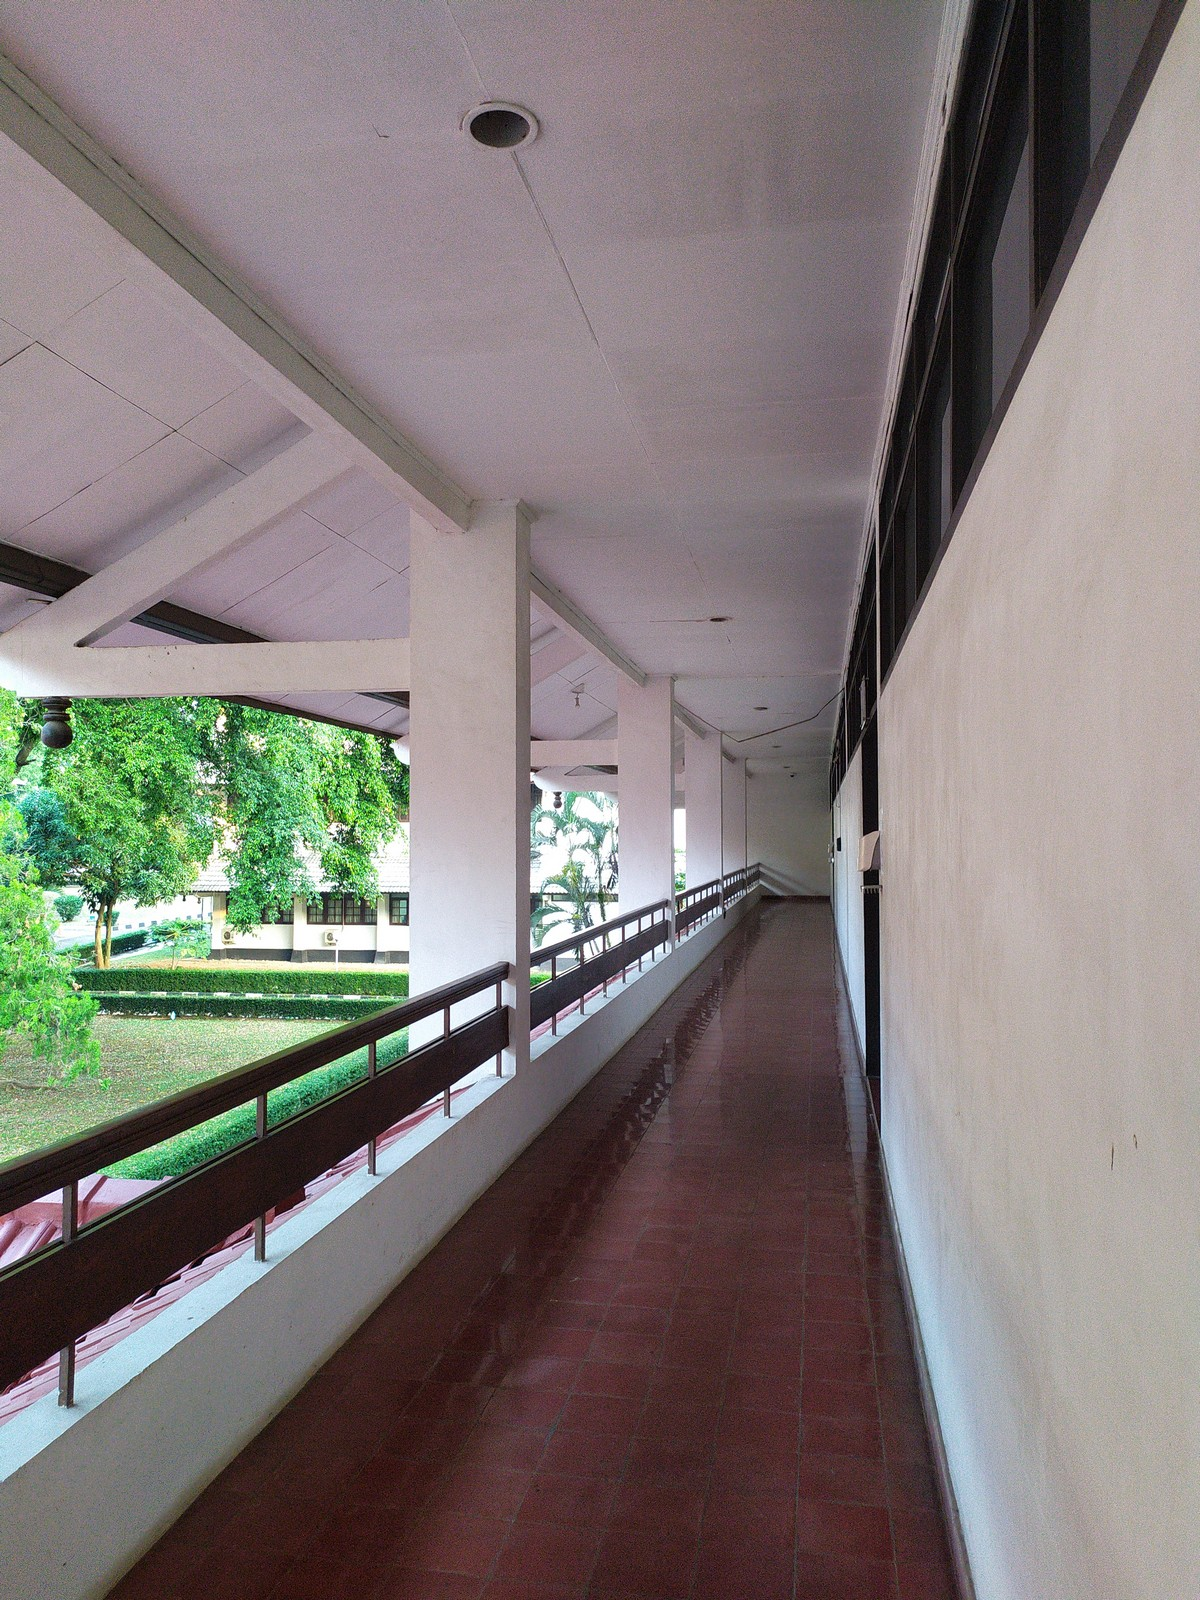concrete beam: (61, 637, 418, 703)
concrete column: (396, 496, 541, 1075), (608, 661, 687, 908)
